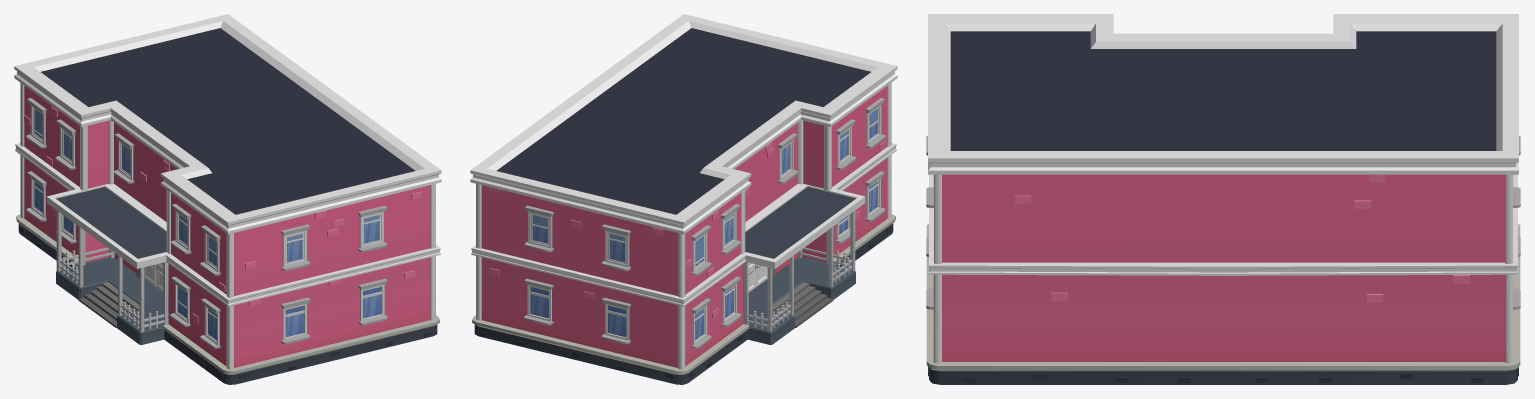
The model's file is Building_5_1_L.fbx.
The picture shows the model from 3 angles, left to right: view 1: azimuth 30°, elevation 25°; view 2: azimuth 150°, elevation 25°; view 3: azimuth 270°, elevation 25°; orthographic projection. The views are drawn at different scales.
Parts seen in each view (by area): view 1: Building_5_1_L; view 2: Building_5_1_L; view 3: Building_5_1_L.
Boxes of the visible parts, left/top/right/bottom form: Building_5_1_L: left=14, top=14, right=441, bottom=384; Building_5_1_L: left=470, top=14, right=897, bottom=384; Building_5_1_L: left=926, top=14, right=1520, bottom=384.
Size of the model in its own units: 1251 by 804 by 1908.
